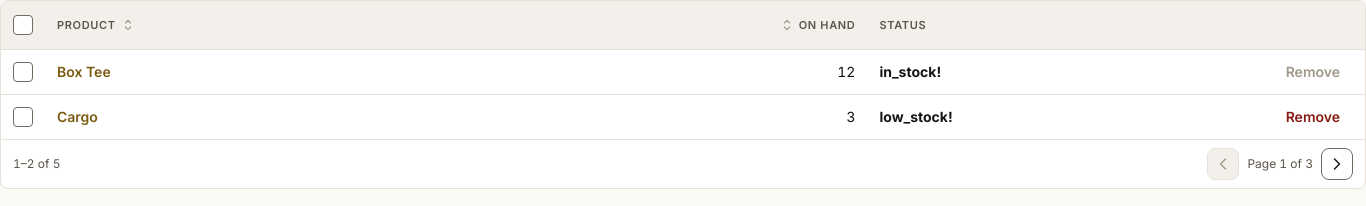
Scenario: se-table › paging › moves forward and back, and stops at the ends
The image size is (1366, 206).
Expected: the button named "Previous page" is disabled, [1207,148,1239,180]
Click the button named "Next page".
click(1337, 164)  # box [1321,148,1353,180]
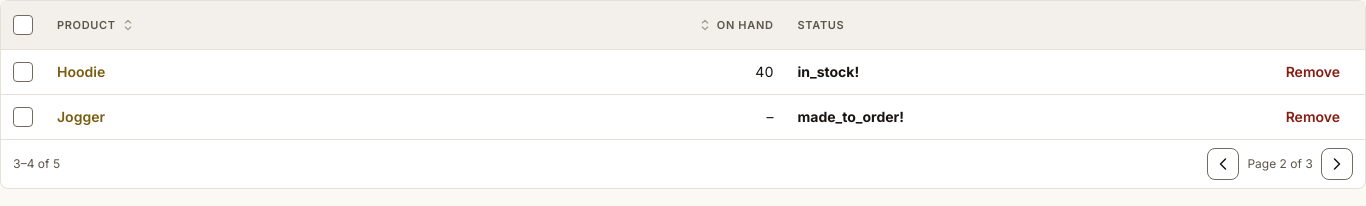
Click the button named "Next page".
click(1337, 164)  # box [1321,148,1353,180]
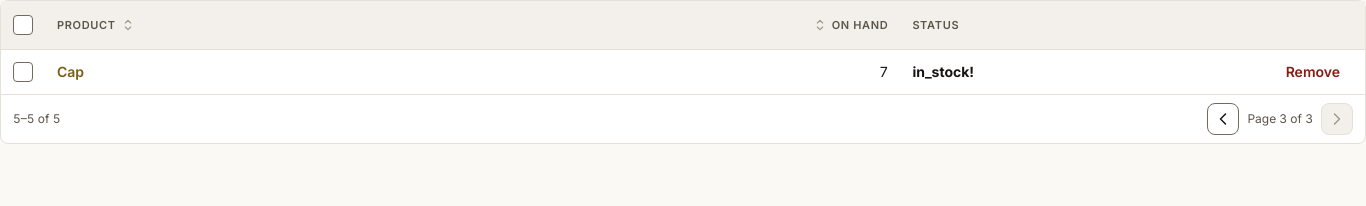
Expected: the text with class "se-table__range" reads "5–5 of 5", [13,111,60,126]
Expected: the button named "Next page" is disabled, [1321,103,1353,135]
